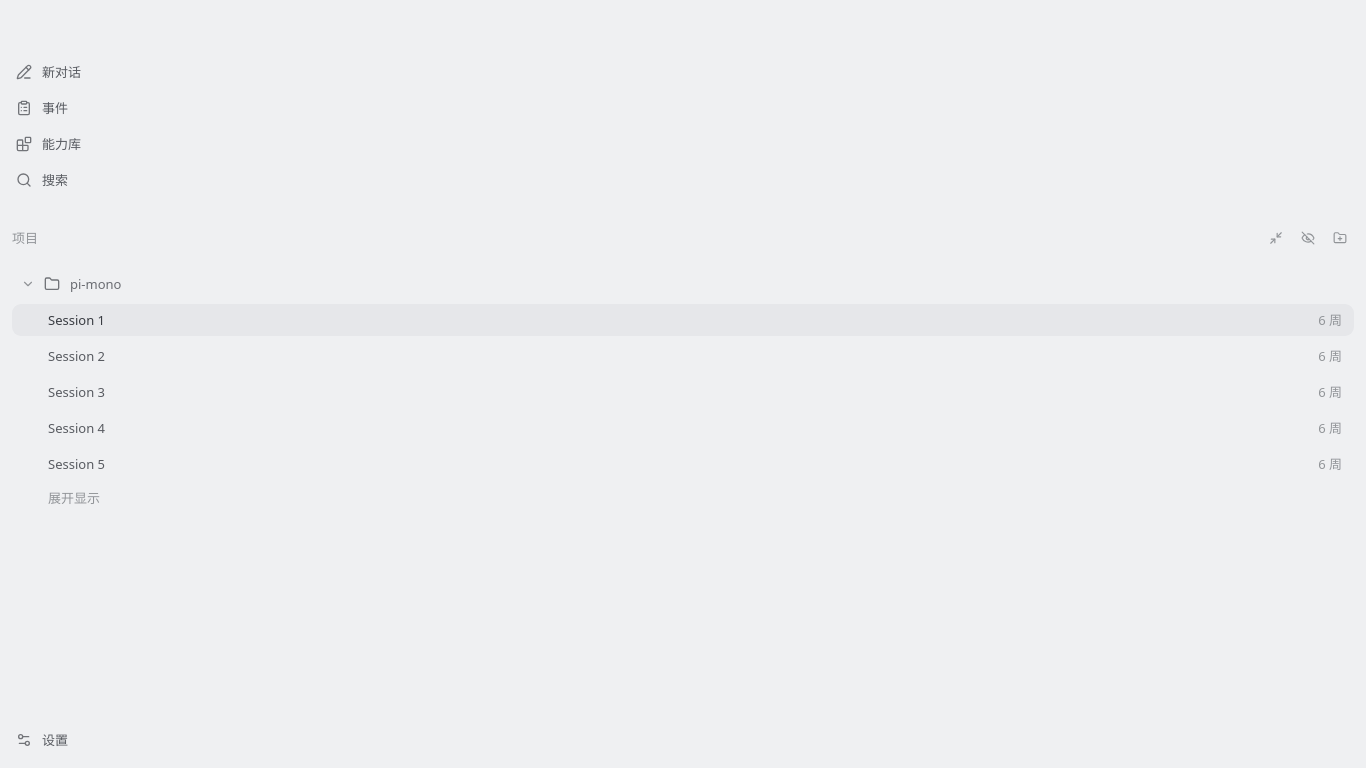
SessionList UI › limits project sessions and expands hidden rows on demand
The image size is (1366, 768).
expect the text "Session 5" is shown: met, box [48,455,105,473]
expect the text "Session 6" is not shown: met
Click the button "展开显示": (74, 498) [48,484,100,512]
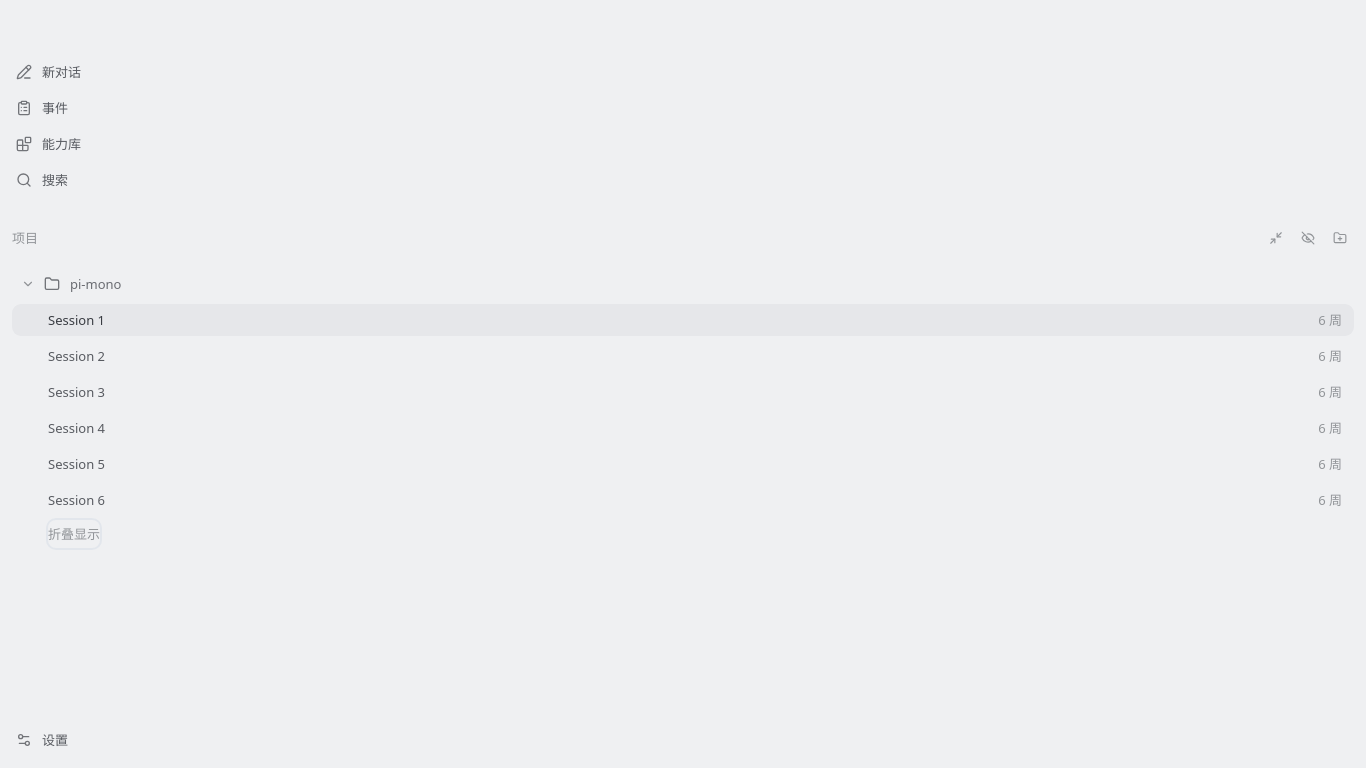
expect the text "Session 6" is shown: met, box [48,491,105,509]
expect the button "折叠显示" is shown: met
Click the button "折叠显示": (74, 534) [48,520,100,548]
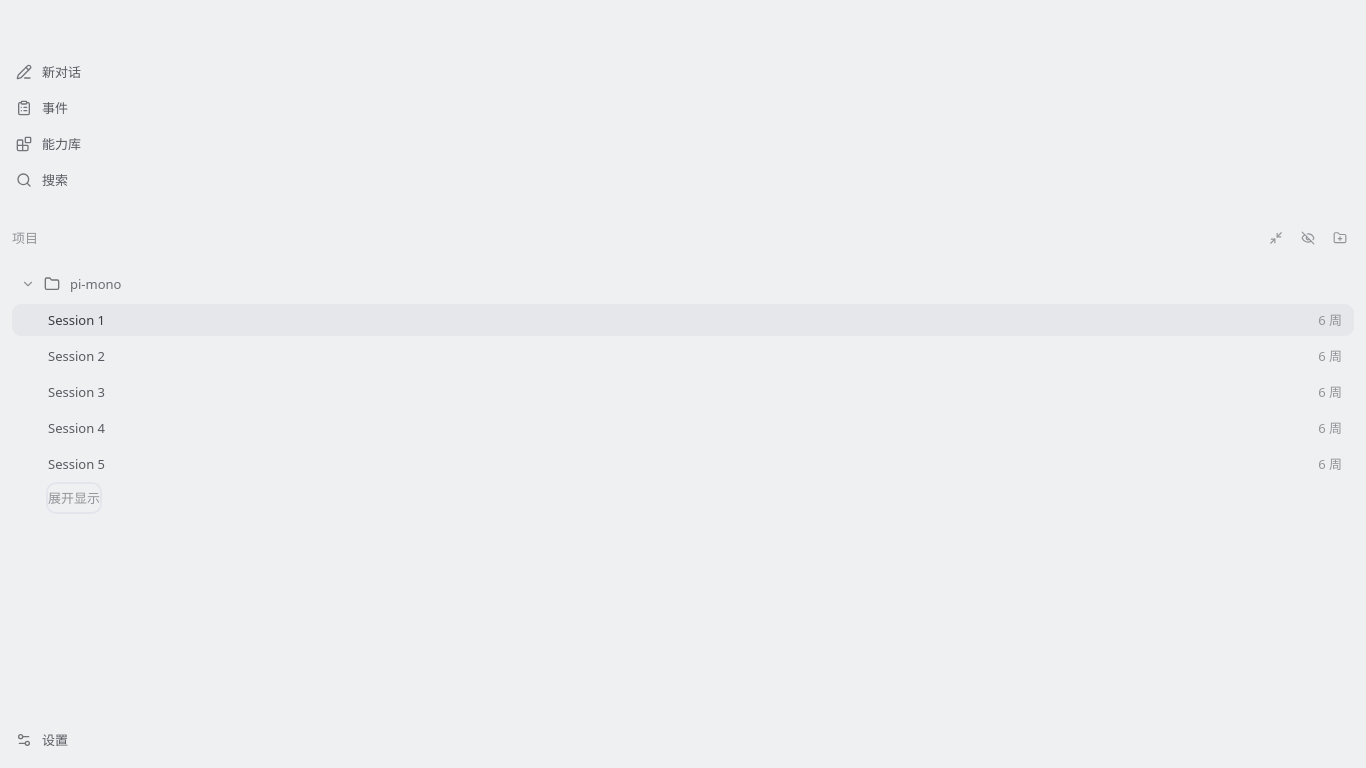
expect the button "Session 6" is gone: met
expect the button "展开显示" is shown: met, box [48,484,100,512]
